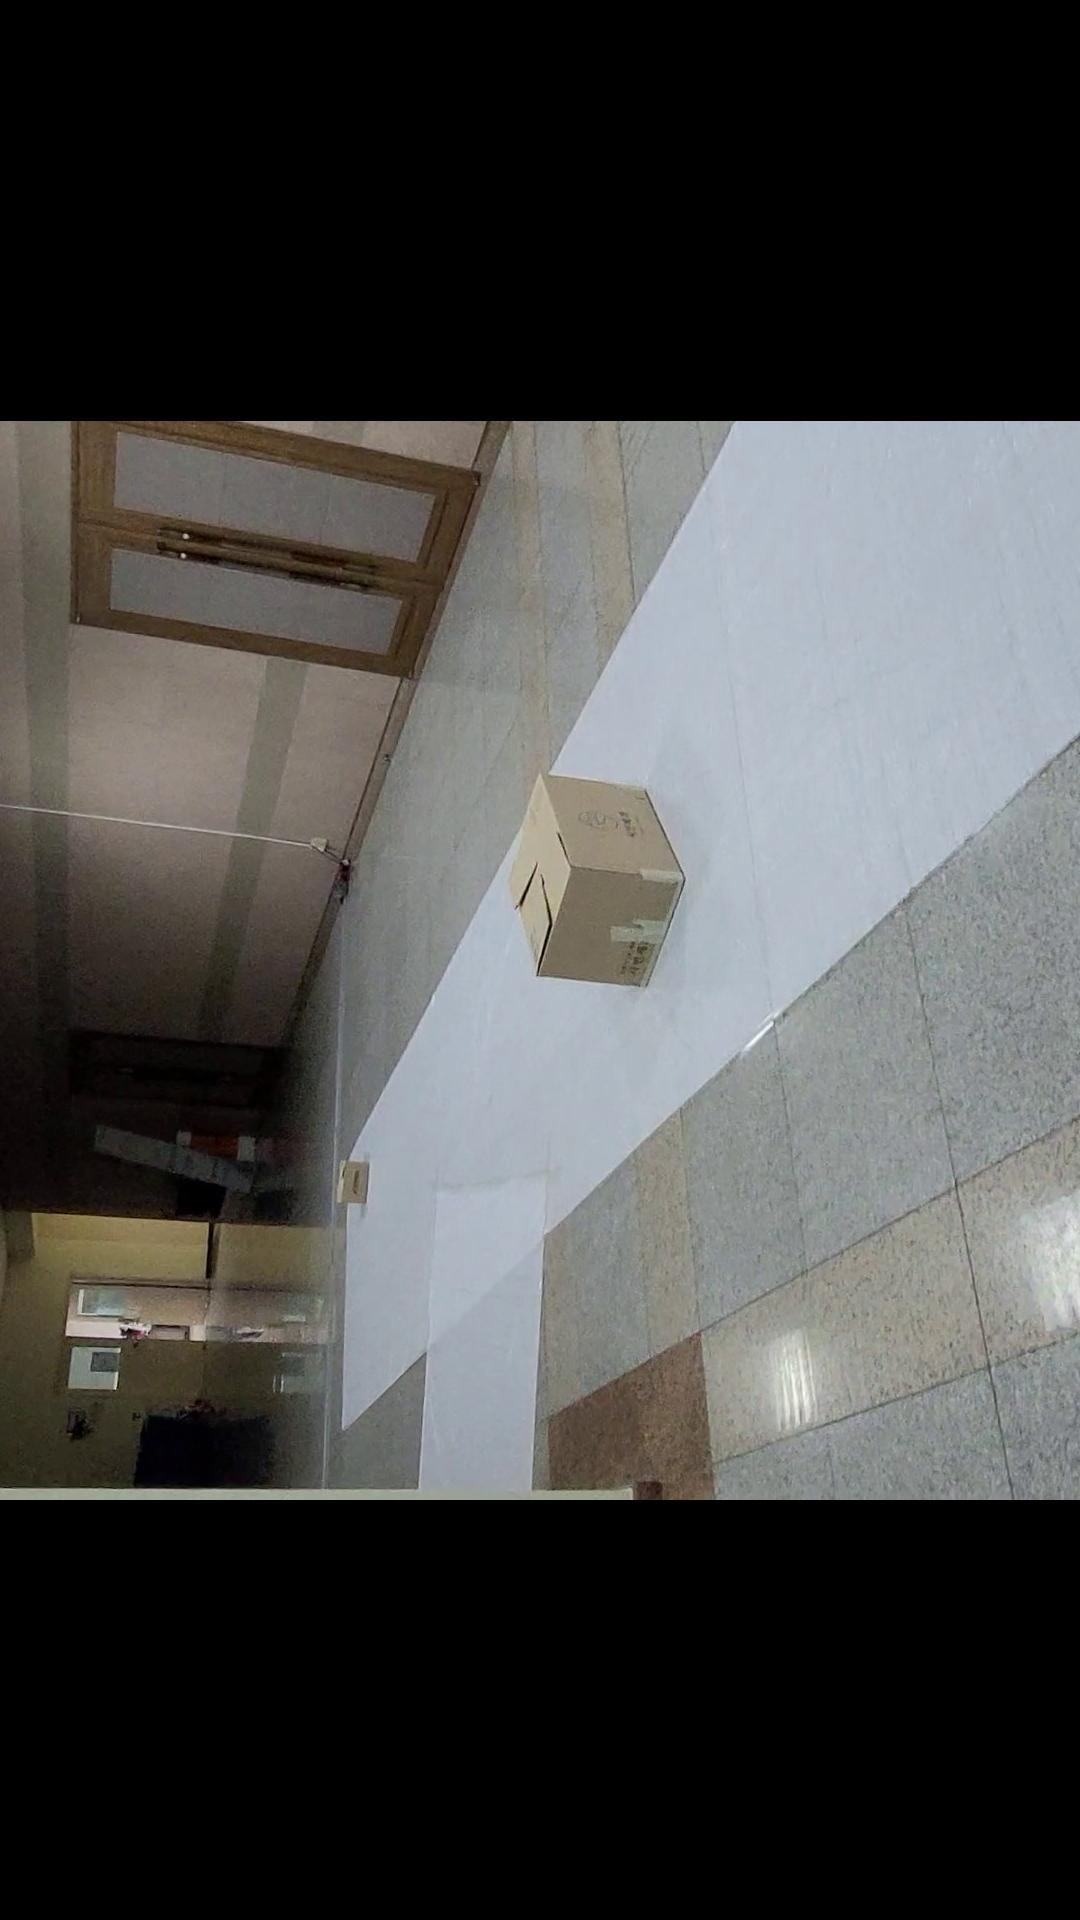Box: (485, 748, 723, 1027), (328, 1139, 380, 1209)
